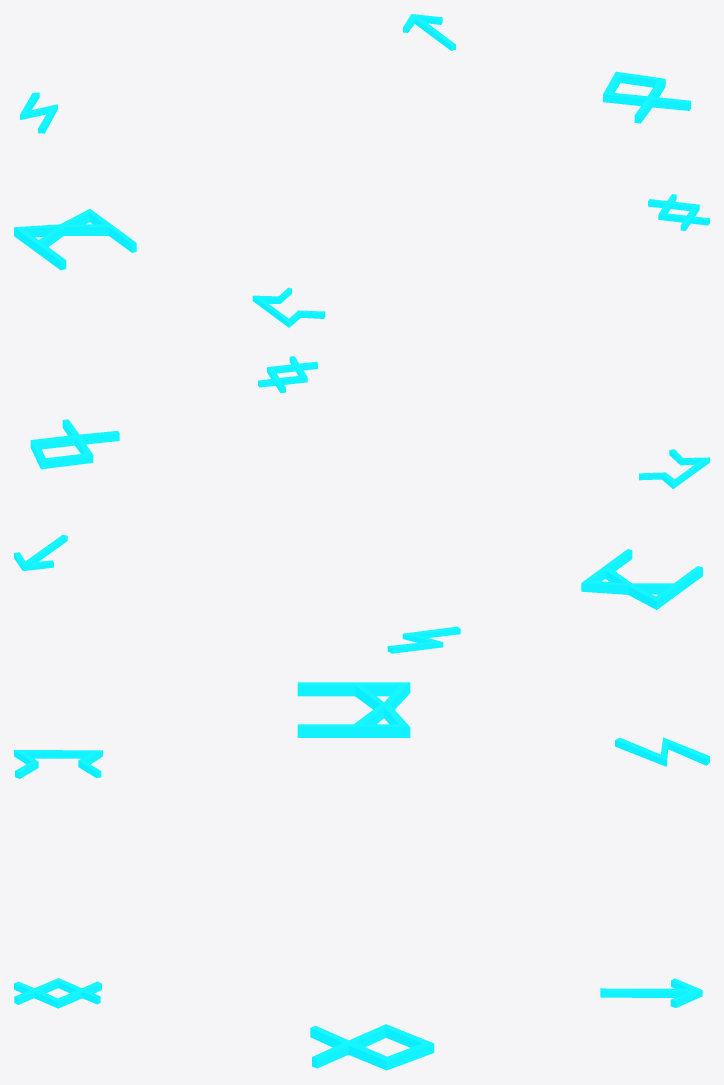
The model's file is Symbol.fbx.
3 views of the same model, one above another, from view 1: azimuth 30°, elevation 25°; view 2: azimuth 150°, elevation 25°; view 3: azimuth 270°, elevation 25° (orthographic). The views are drawn at different scales.
Visible parts, largest first — view 1: Symbol.001, Symbol.004, Symbol.005, Symbol, Symbol.003, Symbol.002; view 2: Symbol.001, Symbol.004, Symbol.002, Symbol.005, Symbol, Symbol.003; view 3: Symbol.001, Symbol.004, Symbol.005, Symbol, Symbol.003, Symbol.002.
Part boxes in pixels (bbox=[...]): Symbol.001: bbox=[14, 209, 136, 270]; Symbol.004: bbox=[603, 71, 690, 123]; Symbol.005: bbox=[648, 194, 709, 230]; Symbol: bbox=[252, 287, 325, 327]; Symbol.003: bbox=[403, 14, 455, 50]; Symbol.002: bbox=[20, 92, 57, 133]; Symbol.001: bbox=[581, 549, 702, 609]; Symbol.004: bbox=[30, 419, 119, 469]; Symbol.002: bbox=[387, 626, 460, 653]; Symbol.005: bbox=[258, 356, 317, 392]; Symbol: bbox=[639, 449, 709, 488]; Symbol.003: bbox=[14, 535, 67, 570]; Symbol.001: bbox=[297, 682, 410, 737]; Symbol.004: bbox=[310, 1024, 434, 1070]; Symbol.005: bbox=[14, 978, 101, 1008]; Symbol: bbox=[14, 750, 102, 778]; Symbol.003: bbox=[600, 978, 702, 1007]; Symbol.002: bbox=[615, 737, 709, 766].
Bounding box in the file's own units: 539 × 13.99 × 420.
